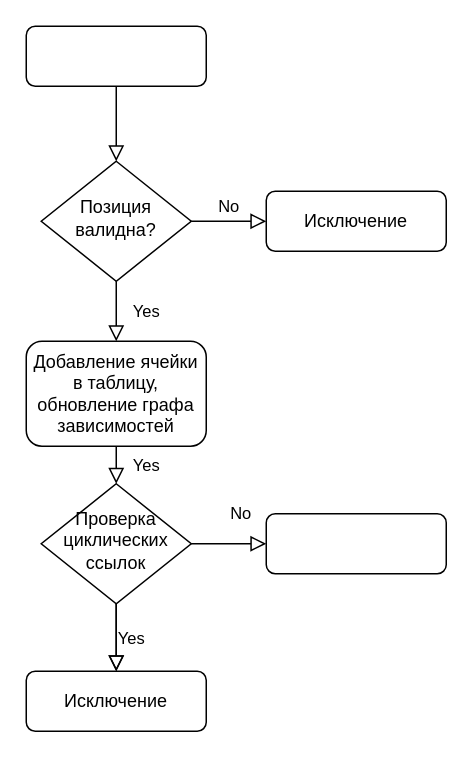
Image size: 473x758. Some labels were removed from this diagram. The box of each missing label's shape, as (x1, y1, x2, y2) in pixels:
Добавление ячейки: (25, 25, 206, 86)
продолжаем: (265, 512, 446, 574)
